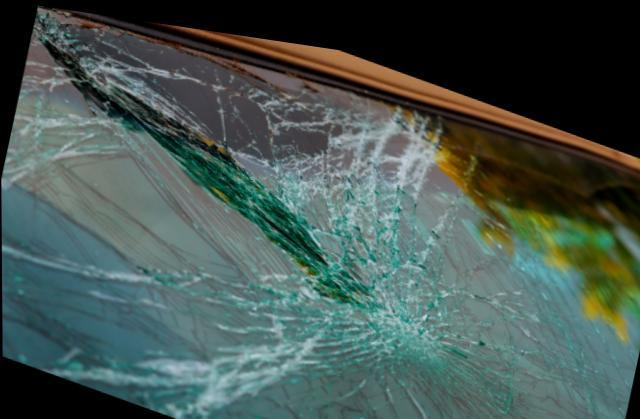glass shatter: (1, 4, 640, 419)
